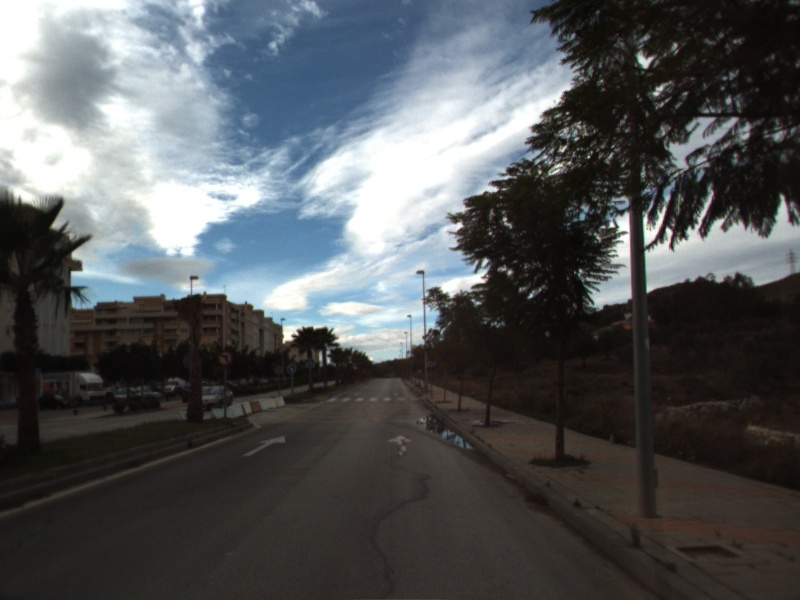STRAIGHT: (241, 434, 288, 458), (386, 432, 415, 458)
